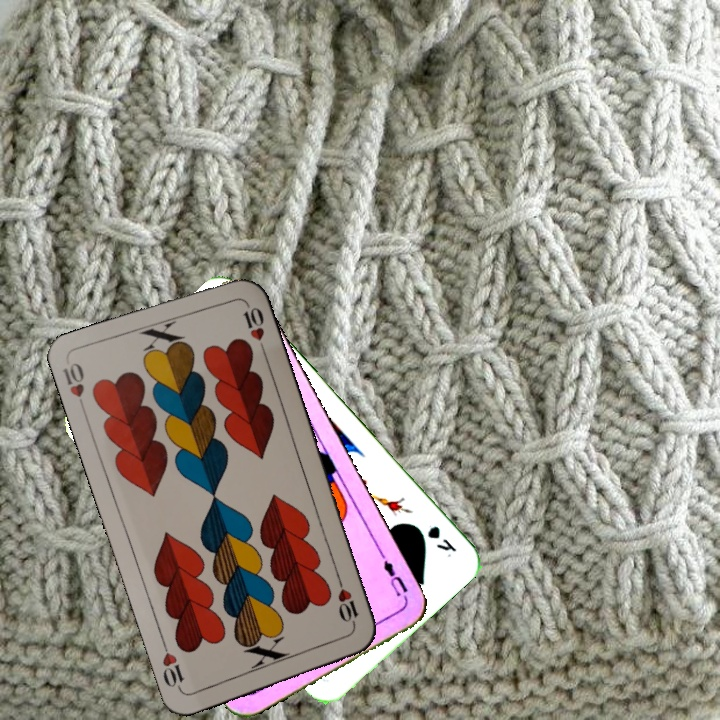EU: (377, 549, 411, 604)
GK: (423, 521, 459, 560)
H10: (59, 358, 89, 416), (333, 574, 361, 632)
